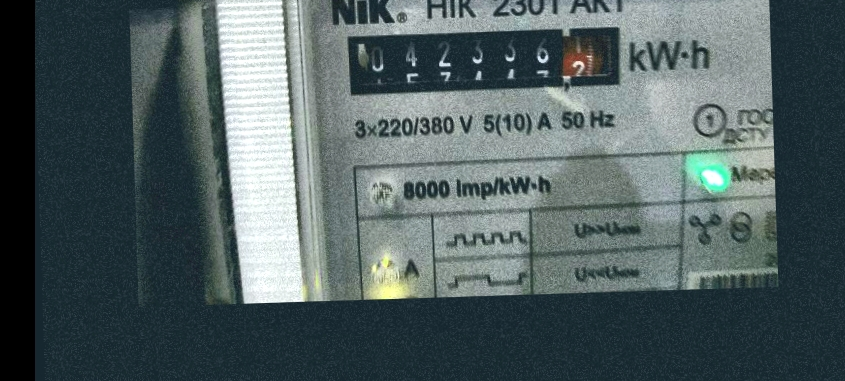0: (369, 44, 386, 72)
1: (571, 32, 584, 54)
2: (437, 38, 453, 67), (570, 58, 587, 76)
3: (500, 33, 517, 63), (469, 36, 484, 64)
4: (403, 38, 420, 67)
6: (534, 34, 552, 64)
screen: (336, 13, 634, 103)
